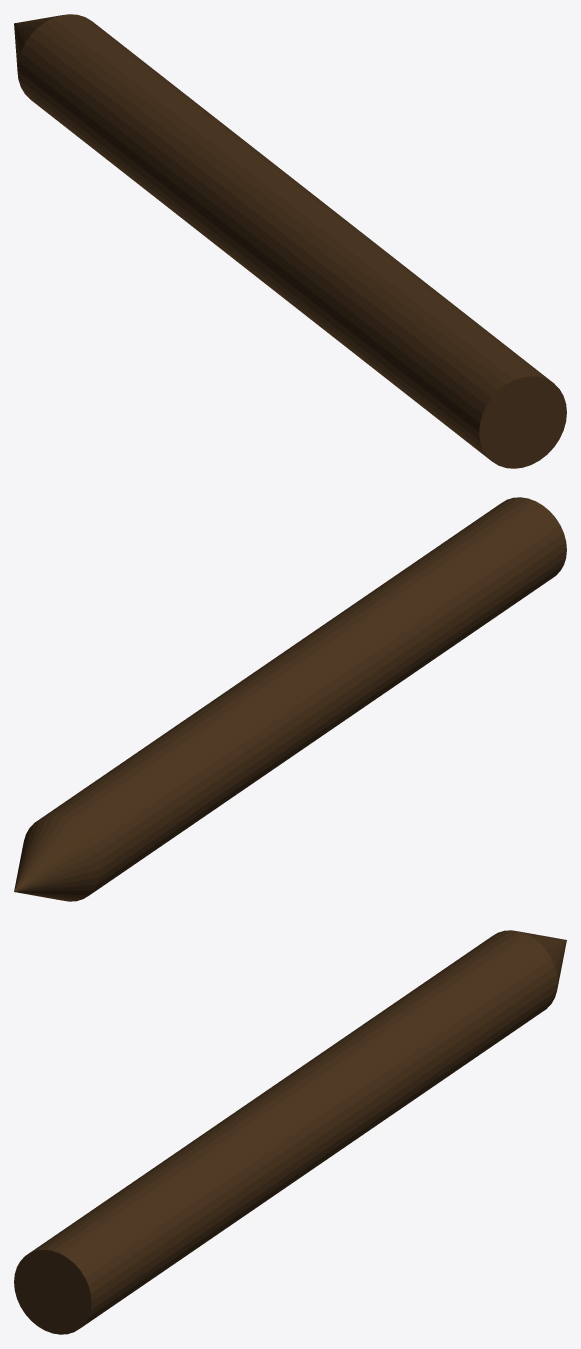
Rendered from Javelin.fbx.
3 views of the same model, one above another, from view 1: azimuth 30°, elevation 25°; view 2: azimuth 150°, elevation 25°; view 3: azimuth 330°, elevation 25° (orthographic). The views are drawn at different scales.
Visible parts, largest first — view 1: Cone.002; view 2: Cone.002; view 3: Cone.002.
Part boxes in pixels (x1=…): Cone.002: x1=14, y1=14, x2=566, y2=468; Cone.002: x1=14, y1=497, x2=566, y2=901; Cone.002: x1=14, y1=930, x2=566, y2=1334.
Bounding box in the file's own units: 13.39 × 10.42 × 112.
Materials: 1 (1 with a texture image).
